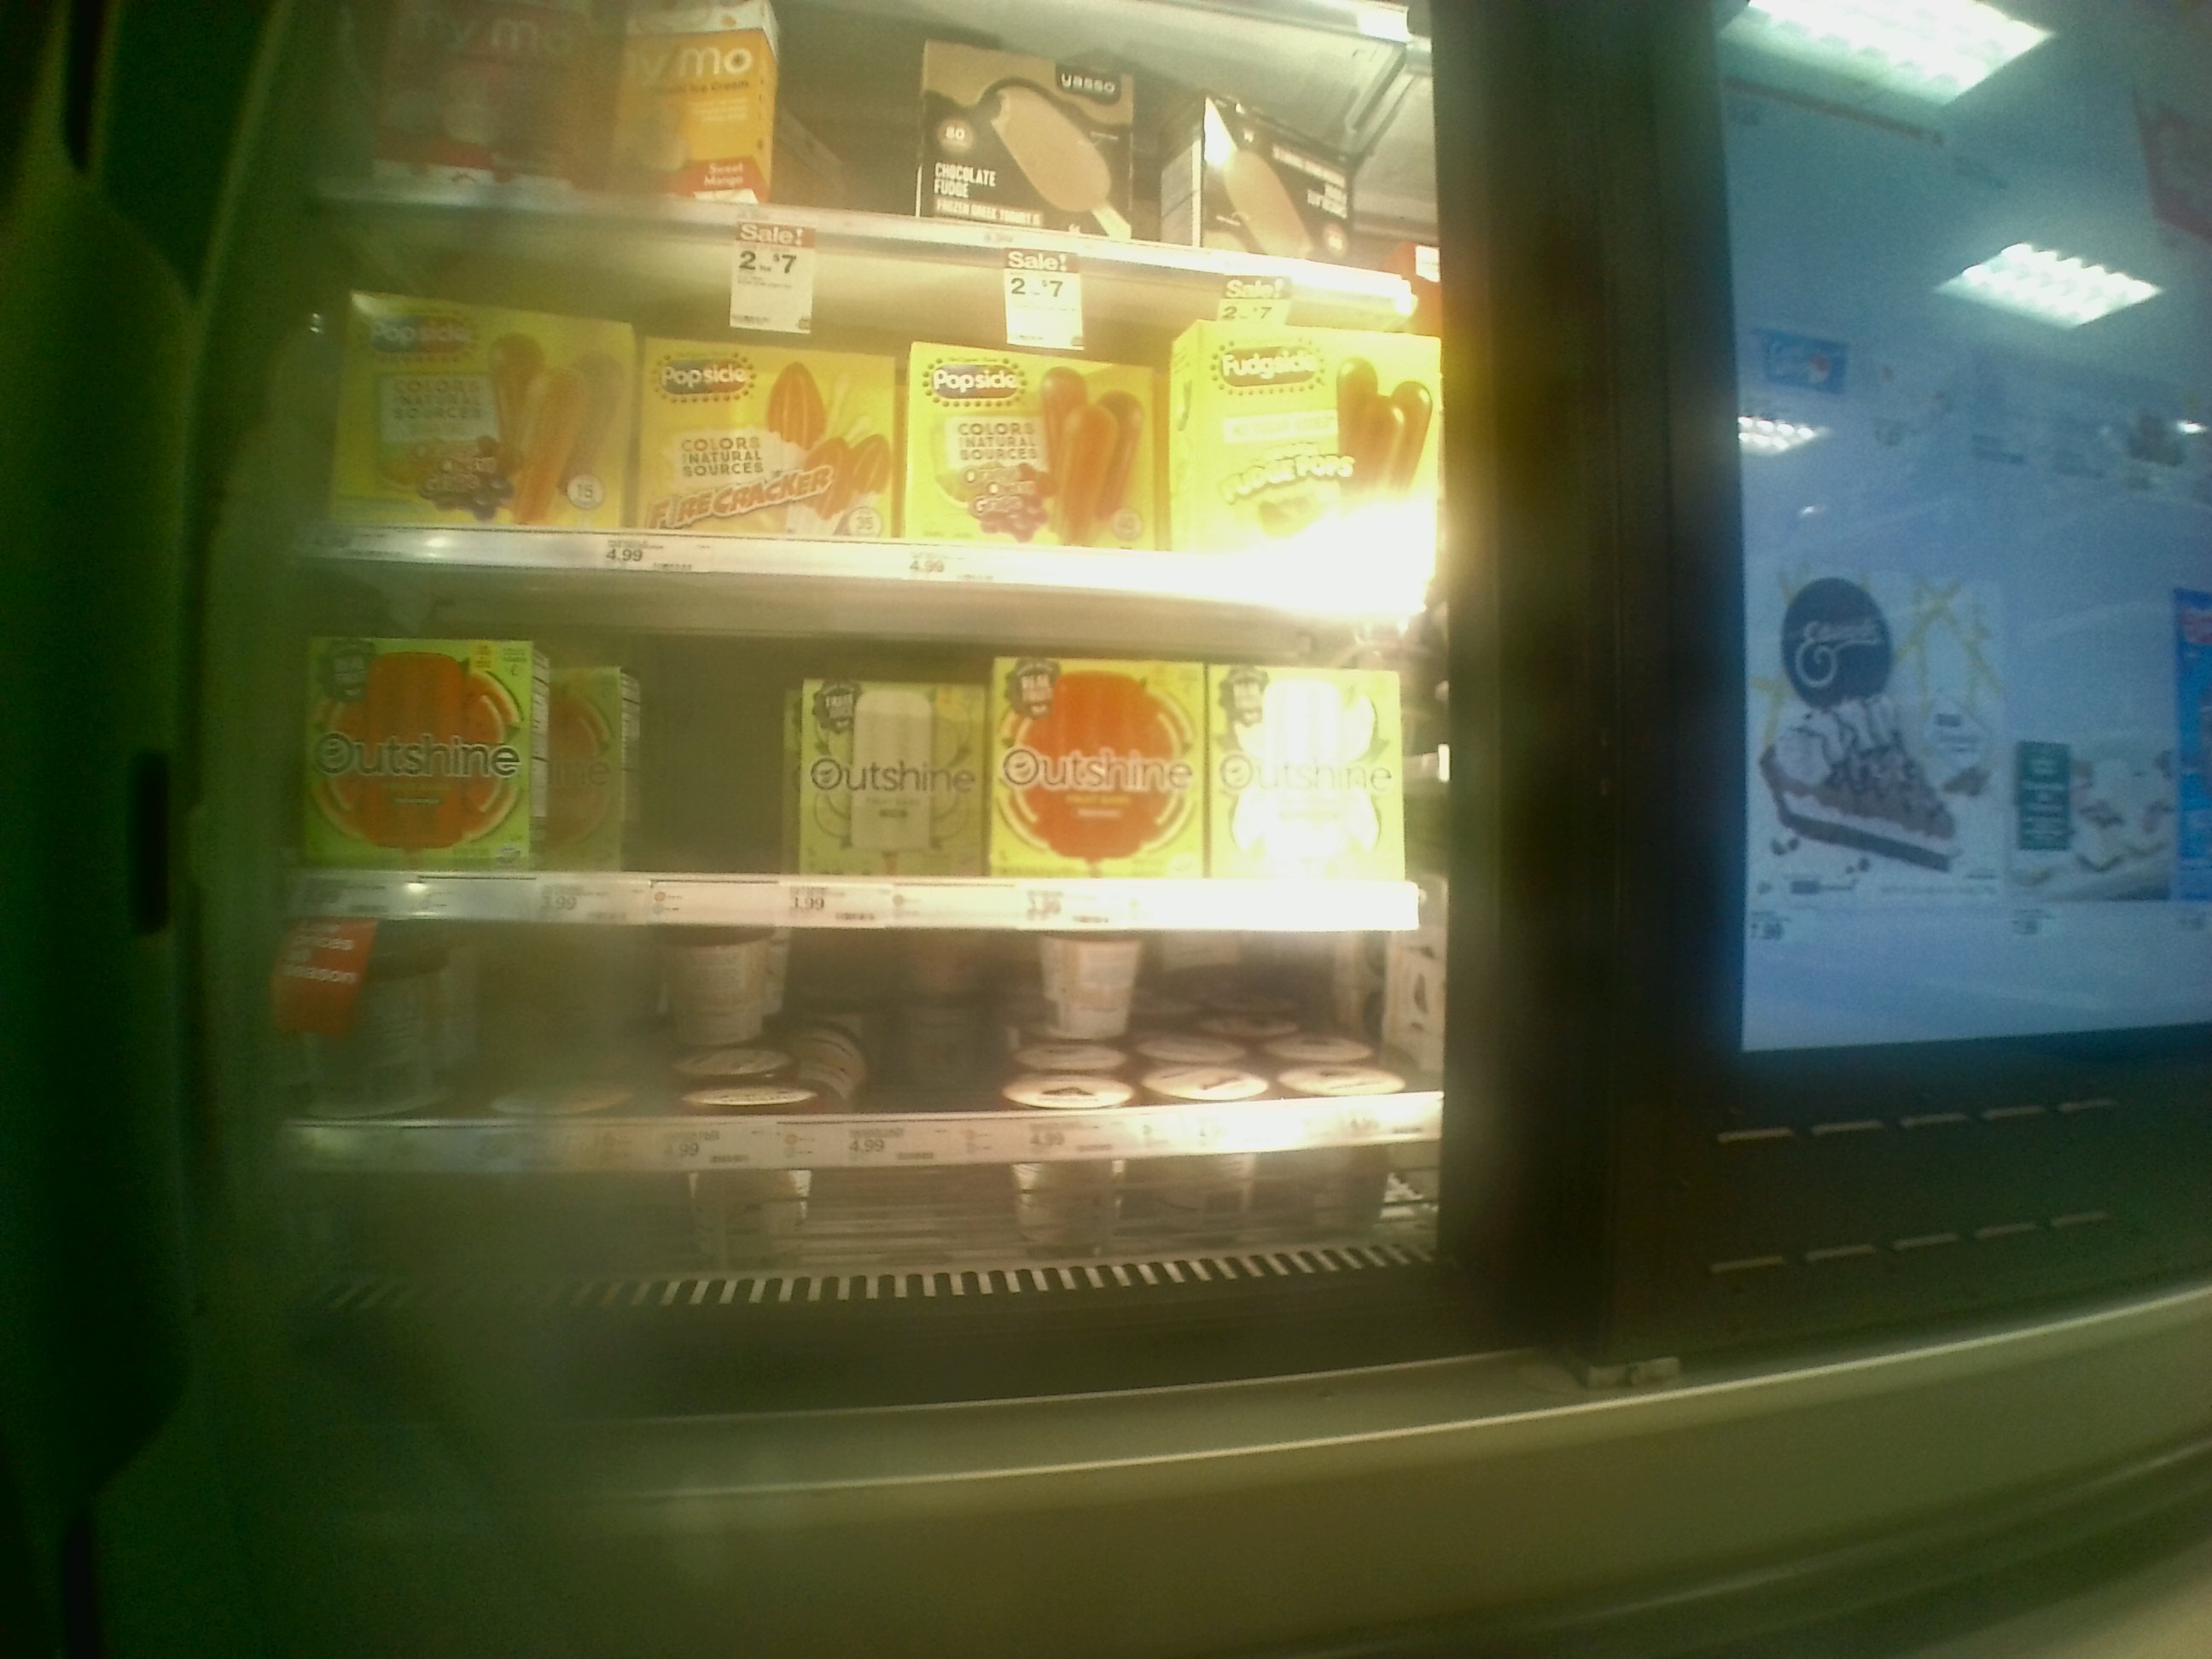ice-cream-shelf: (296, 558, 1440, 918), (289, 918, 1435, 1166)
